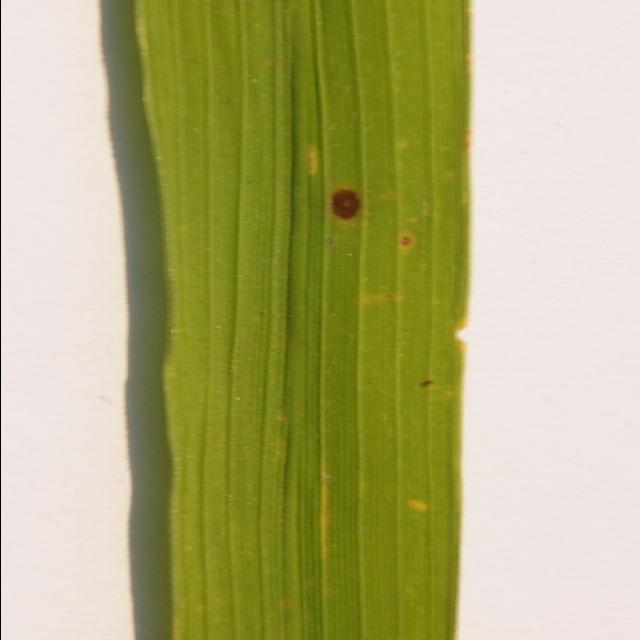Unhealthy: (316, 458, 332, 561), (323, 188, 366, 222), (405, 499, 429, 513), (396, 233, 415, 250), (417, 380, 437, 388), (382, 293, 396, 299)
